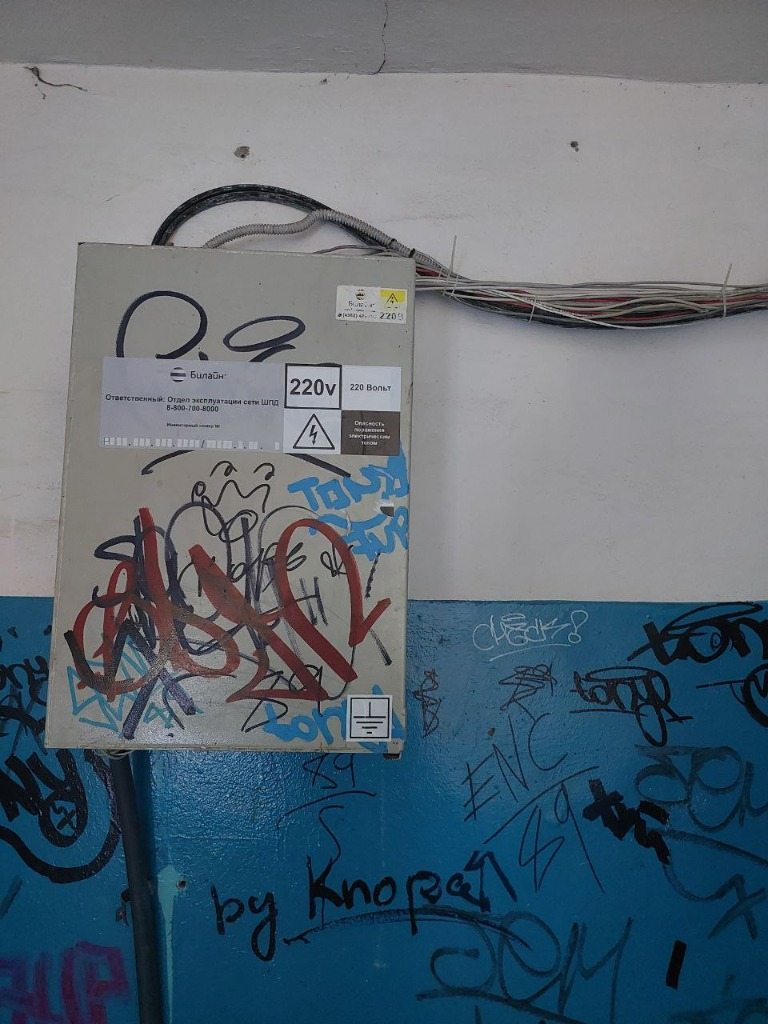sv-5: (40, 232, 420, 760)
